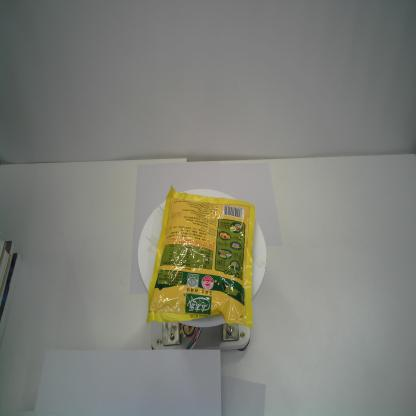Seasoner: (146, 184, 256, 330)
